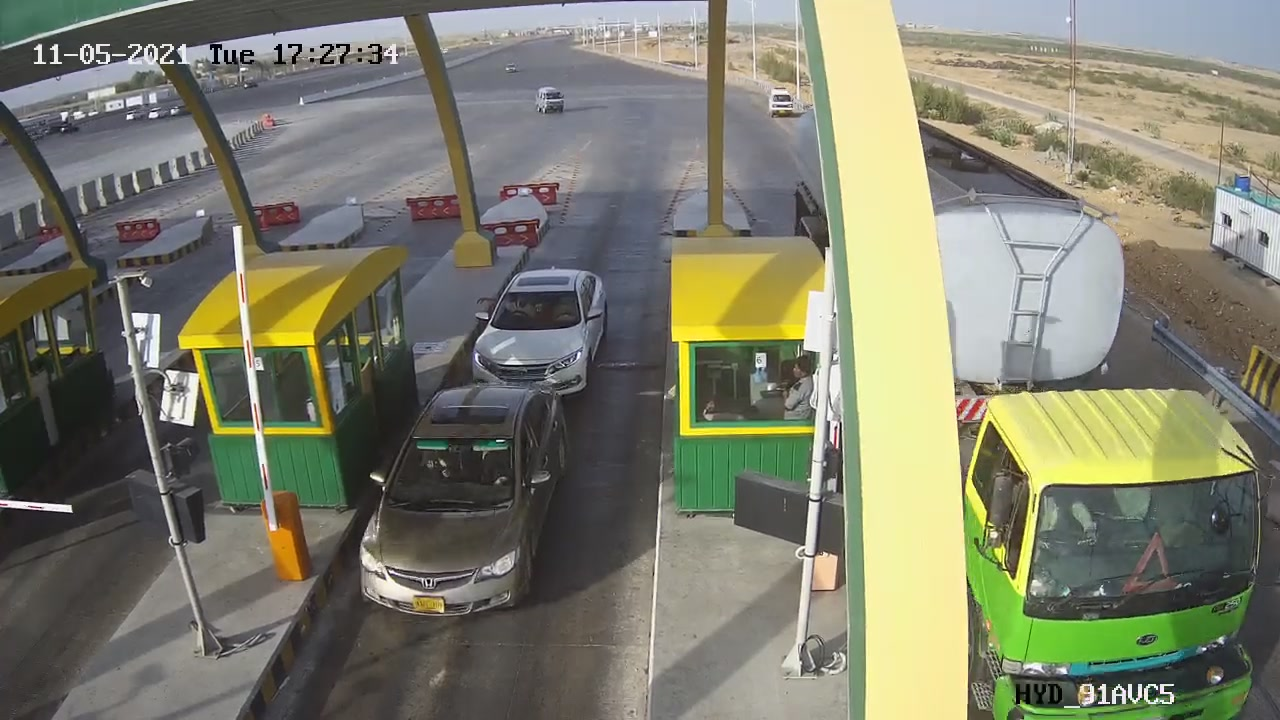F1: (338, 364, 592, 635), (455, 255, 621, 411)
